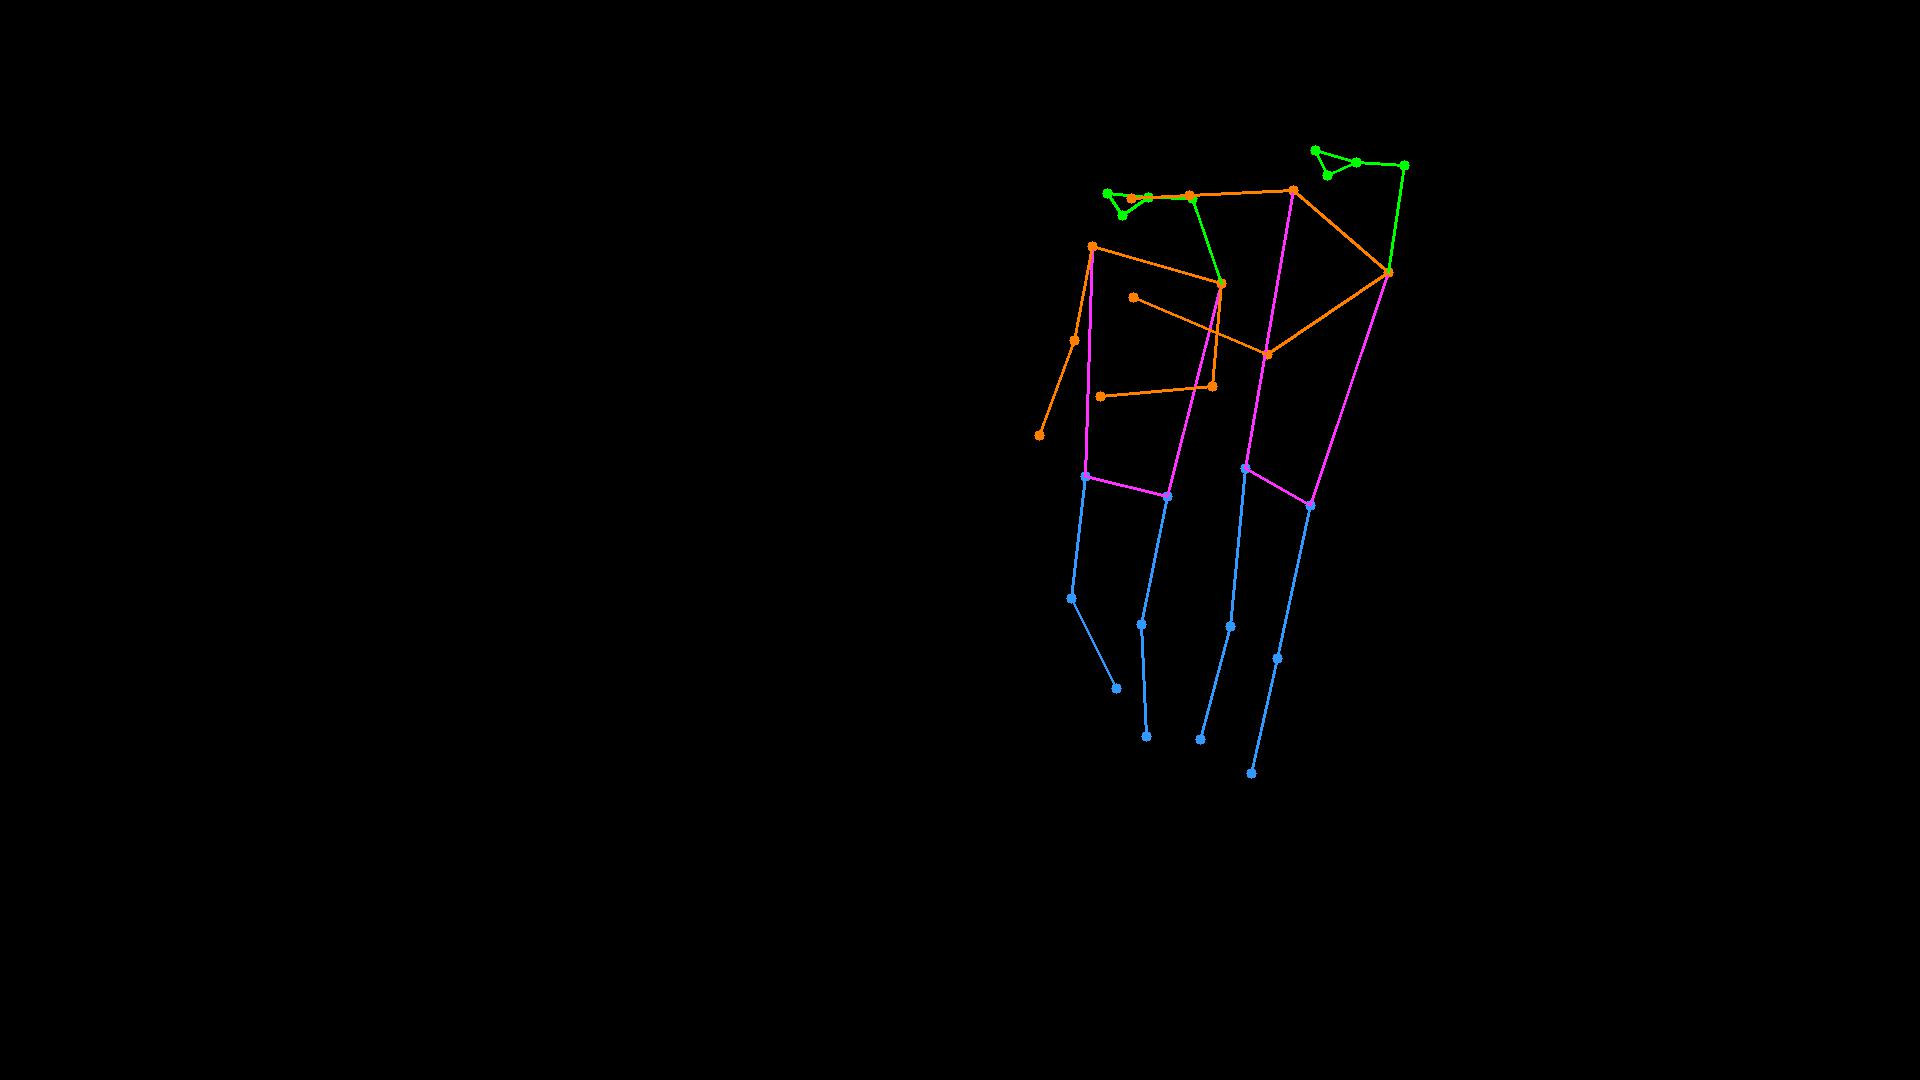normal: (960, 103, 1480, 835)
